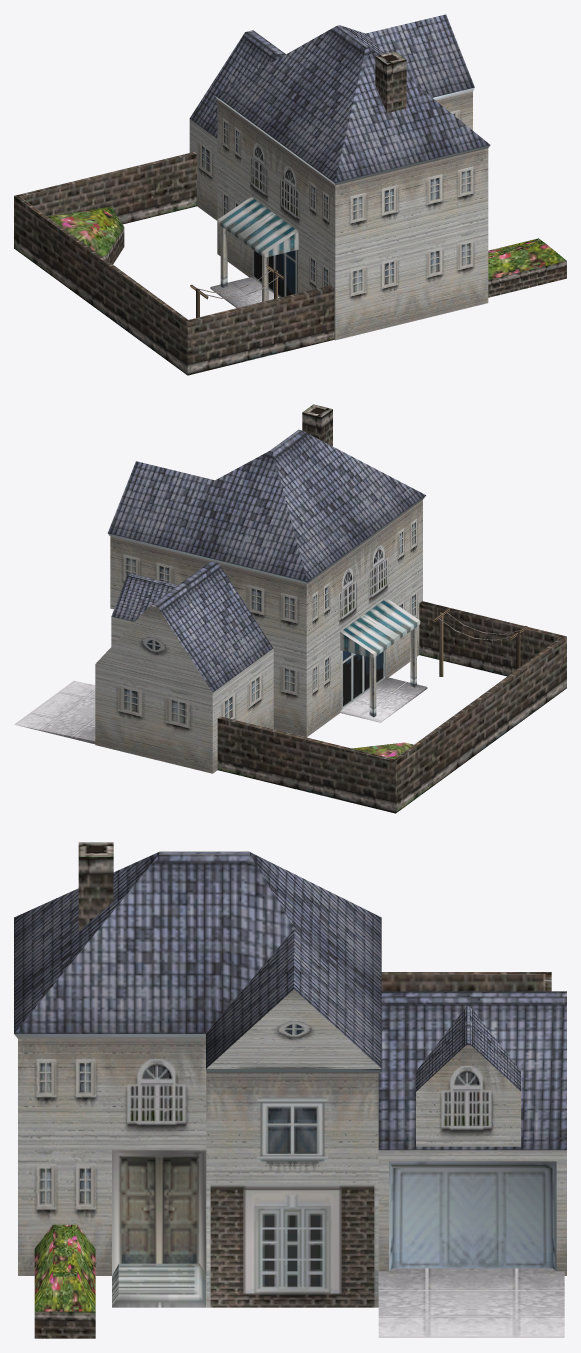
Rendered from USA - Base Building - Home 02 - CMAMHOME2.glb.
The picture shows the model from 3 angles, top to bottom: view 1: azimuth 30°, elevation 25°; view 2: azimuth 150°, elevation 25°; view 3: azimuth 270°, elevation 25°; orthographic projection. The views are drawn at different scales.
Visible parts, largest first — view 1: CMAMHOME2; view 2: CMAMHOME2; view 3: CMAMHOME2.
Boxes of the visible parts, x1,y1,x2,y2 form: CMAMHOME2: (14,14,566,375); CMAMHOME2: (14,404,566,813); CMAMHOME2: (14,842,566,1338).
Size of the model in its own units: 96.68 by 58.68 by 78.9.
Materials: 1 (1 with a texture image).
